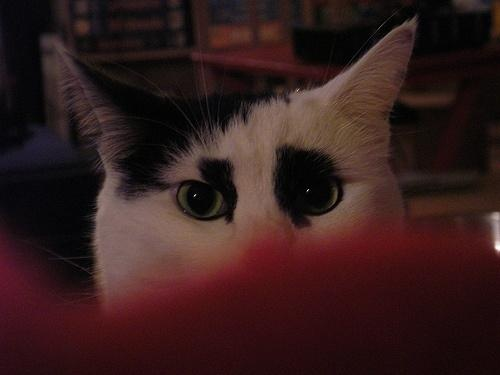cat: (53, 8, 420, 312)
